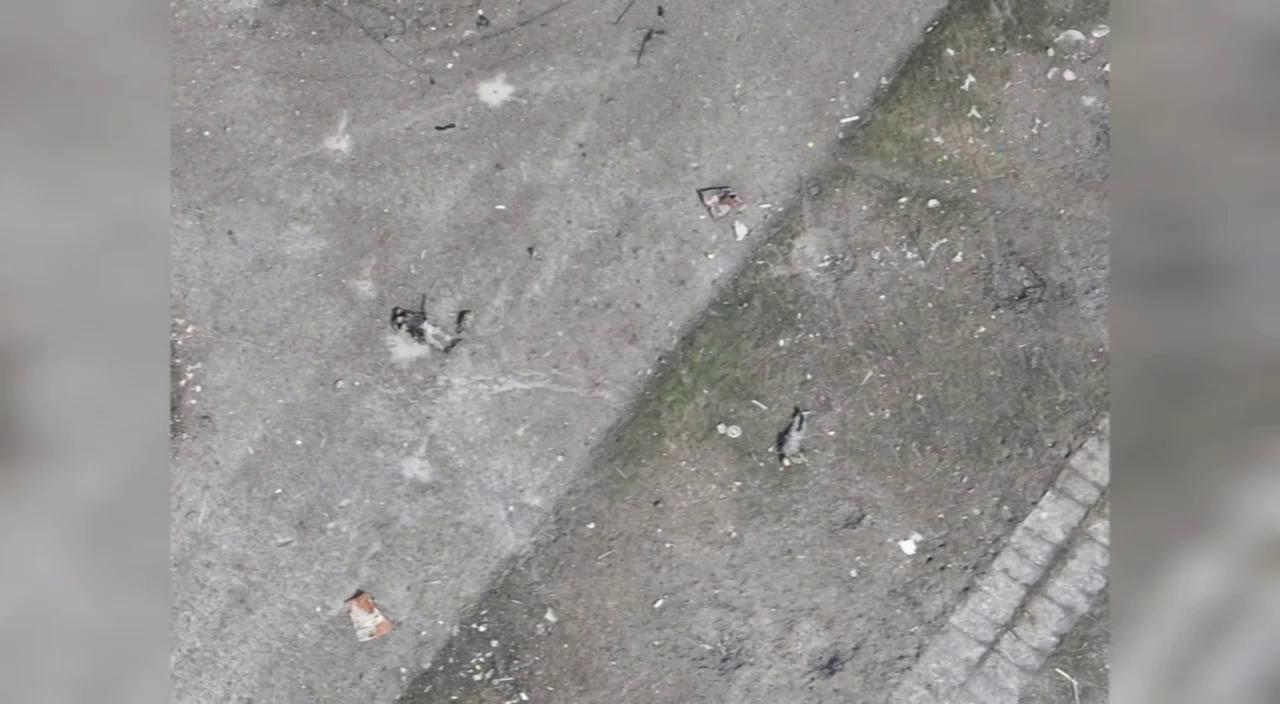person: (392, 304, 460, 358), (777, 406, 809, 470)
